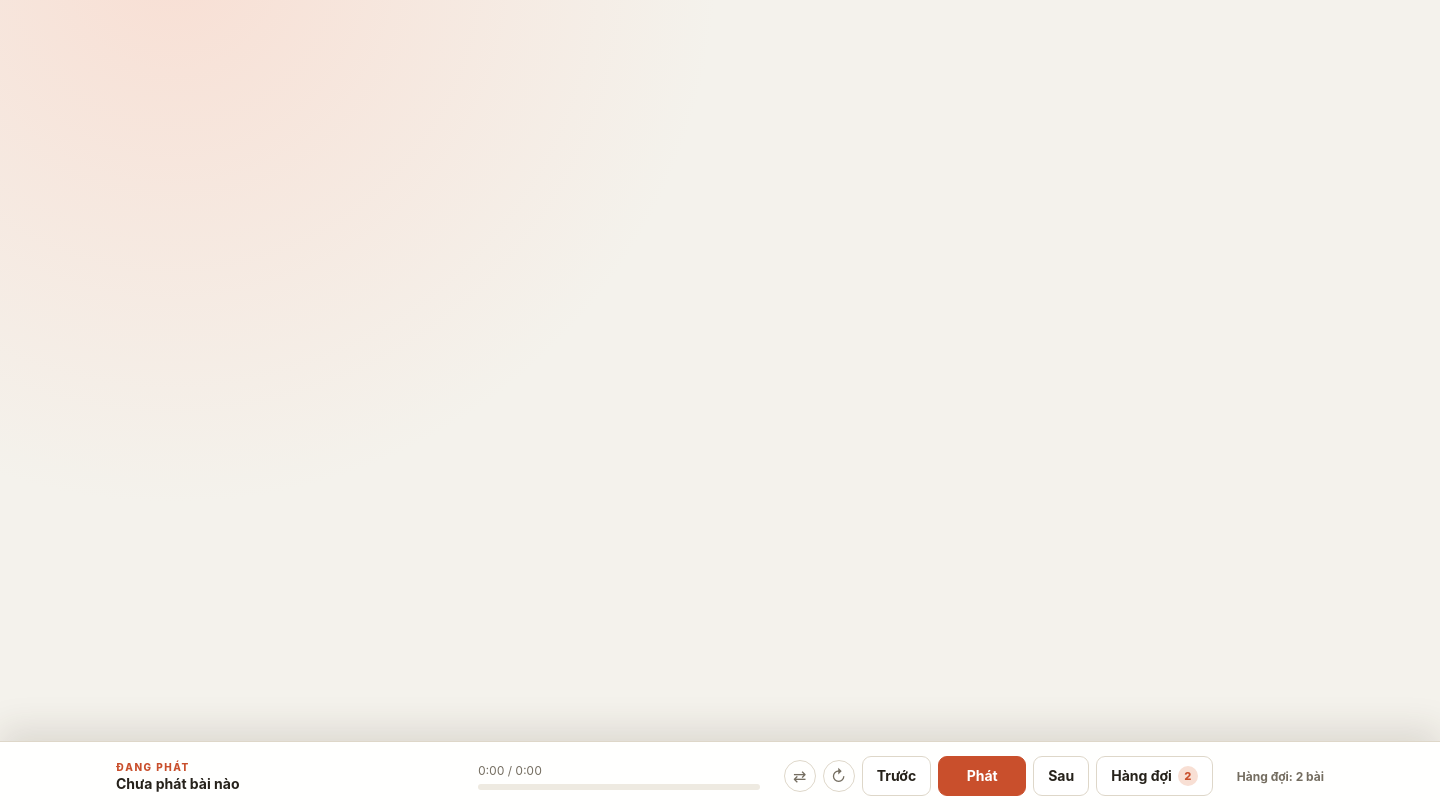
PlayerBar › xóa một bài và xóa toàn bộ hàng đợi từ bảng hàng đợi
The image size is (1440, 810).
Click the button with aria-label "Mở hàng đợi": coordinates (1155, 776) [1096,756,1213,796]
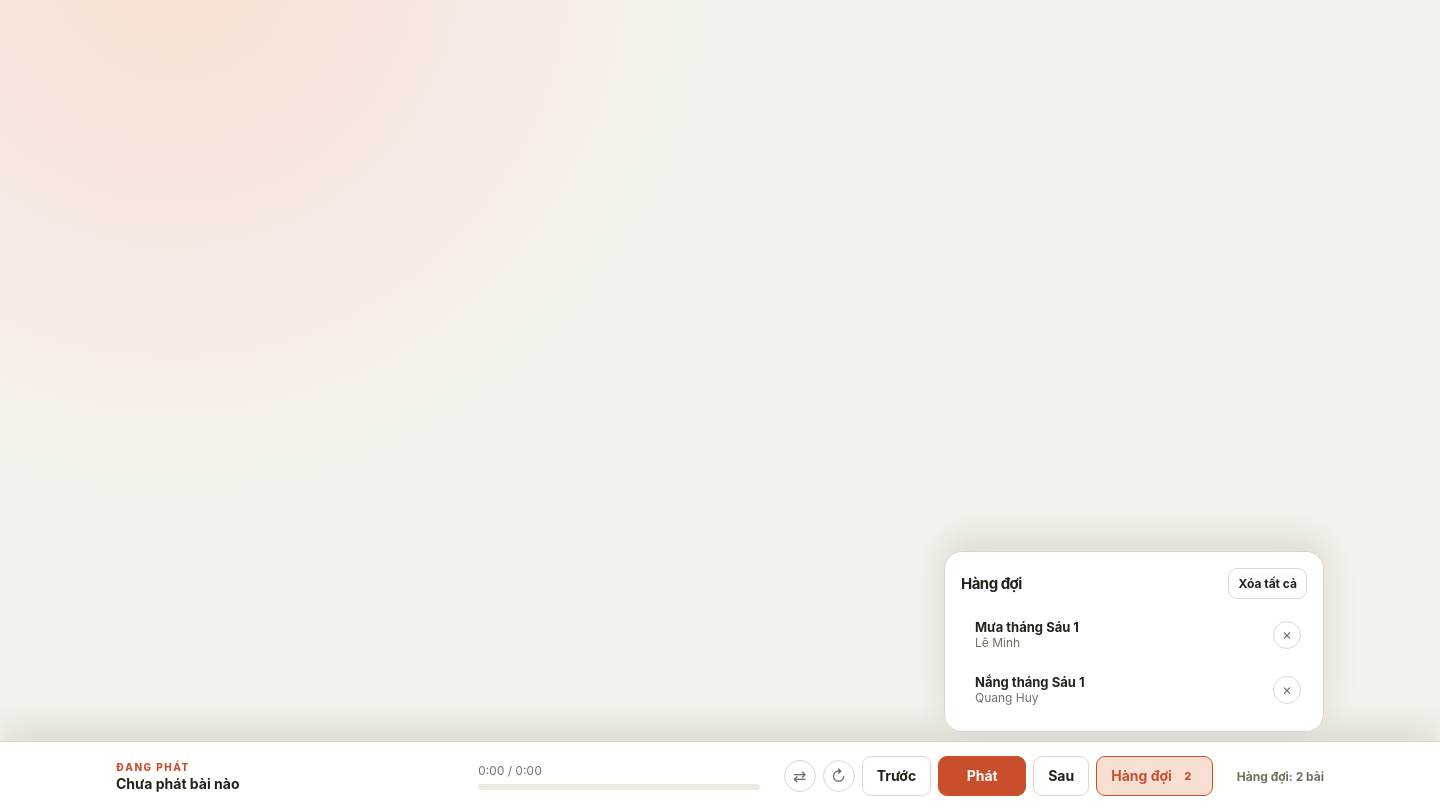
Click the button named "Xóa Mưa tháng Sáu 1 khỏi hàng đợi": coordinates (1287, 634) [1273,620,1301,648]
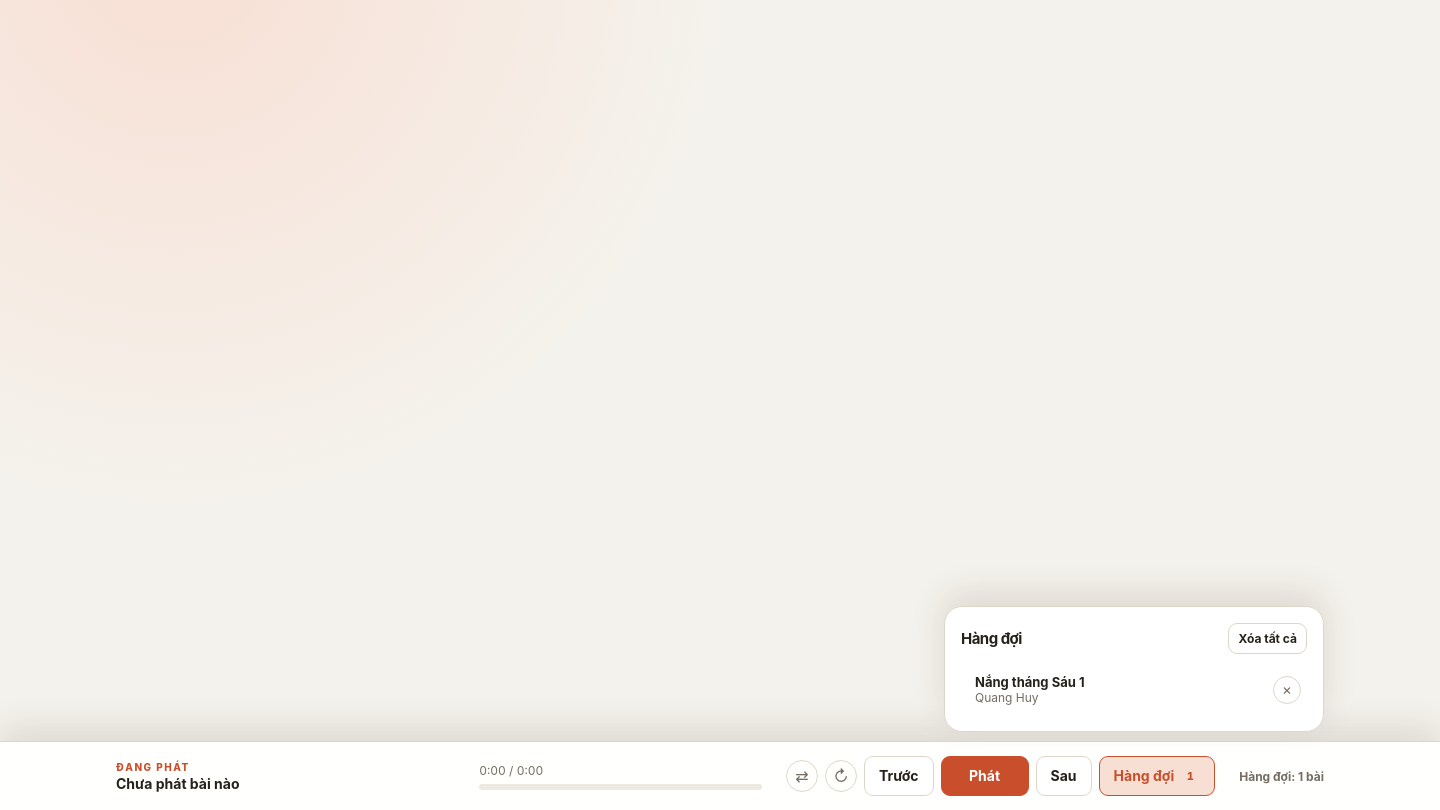
Click the button "Xóa tất cả": coordinates (1268, 638) [1228,623,1307,654]
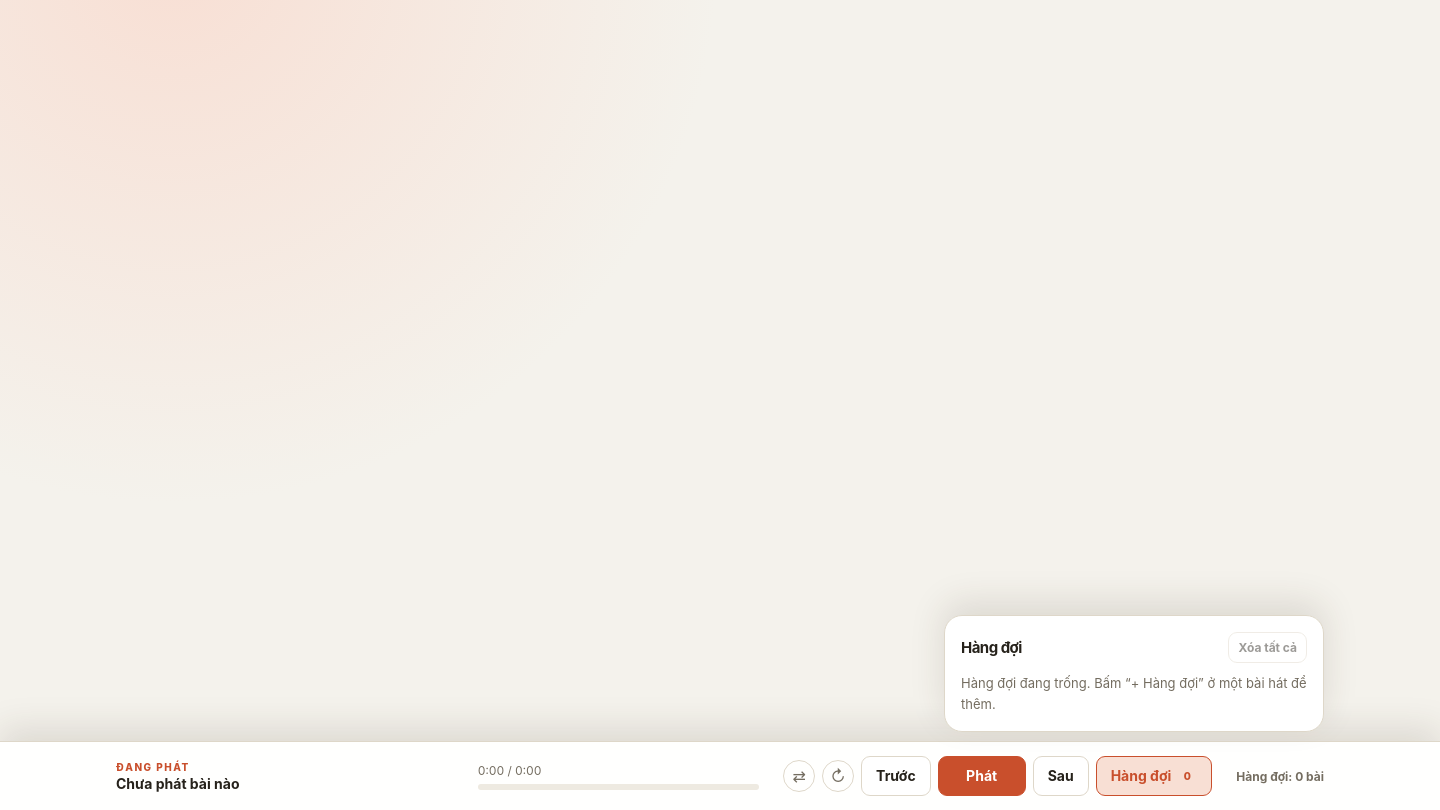
Expected: the text "Hàng đợi đang trống. Bấm “+ Hàng đợi” ở một bài hát để thêm." is shown, [961,673,1307,715]
